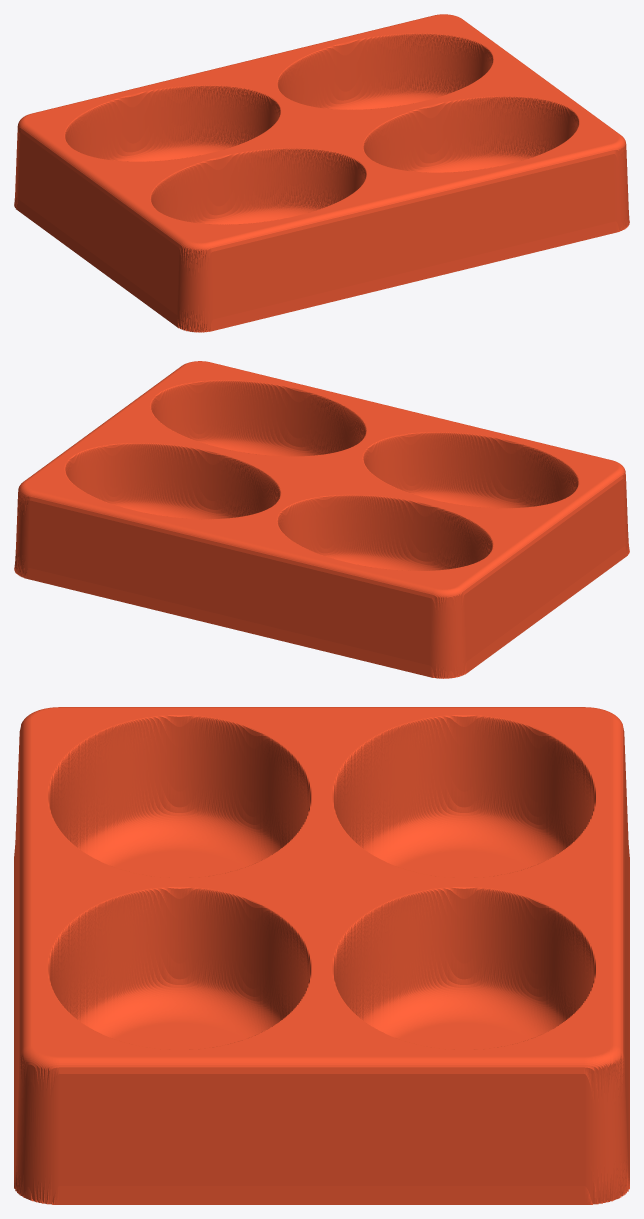
File: mold.glb
The picture shows the model from 3 angles, top to bottom: view 1: azimuth 30°, elevation 25°; view 2: azimuth 150°, elevation 25°; view 3: azimuth 270°, elevation 25°; orthographic projection. The views are drawn at different scales.
Parts seen in each view (by area): view 1: geometry_0; view 2: geometry_0; view 3: geometry_0.
Part boxes in pixels (x1=…): geometry_0: x1=14, y1=14, x2=629, y2=332; geometry_0: x1=14, y1=361, x2=629, y2=678; geometry_0: x1=14, y1=707, x2=629, y2=1204.
Bounding box in the file's own units: 0.1721 × 0.031 × 0.1232.
